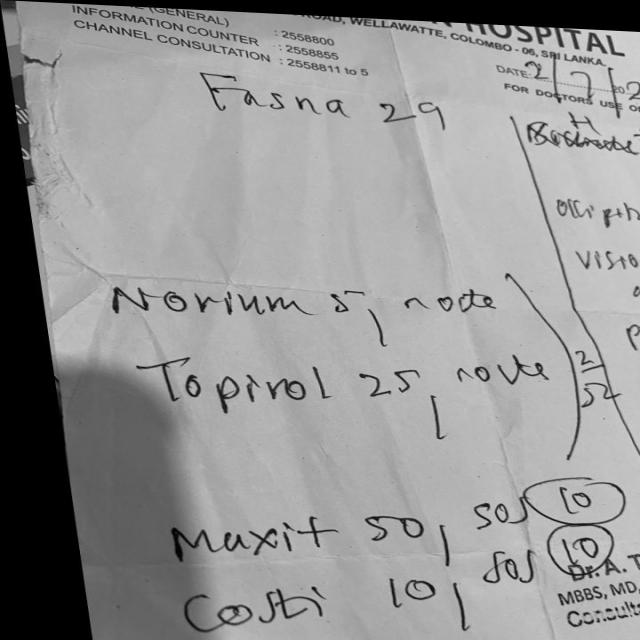Prescription: (138, 523, 636, 640), (149, 455, 623, 571), (124, 340, 616, 420), (86, 265, 510, 337)
